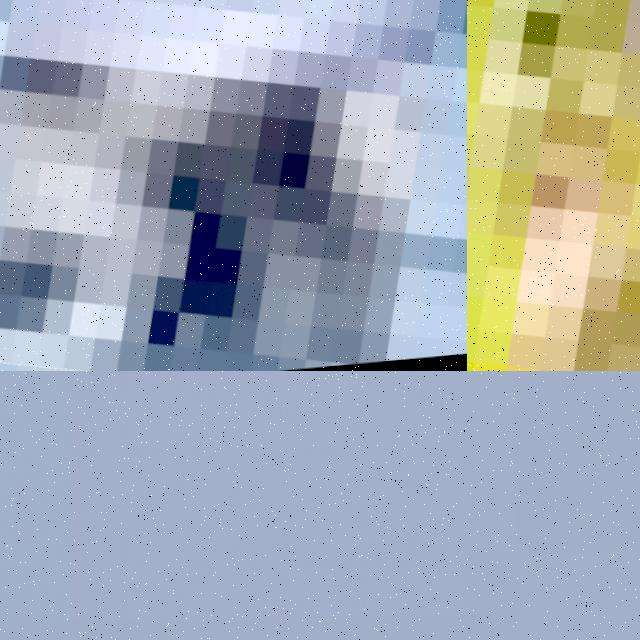drone: (0, 0, 467, 371), (467, 0, 640, 371)
